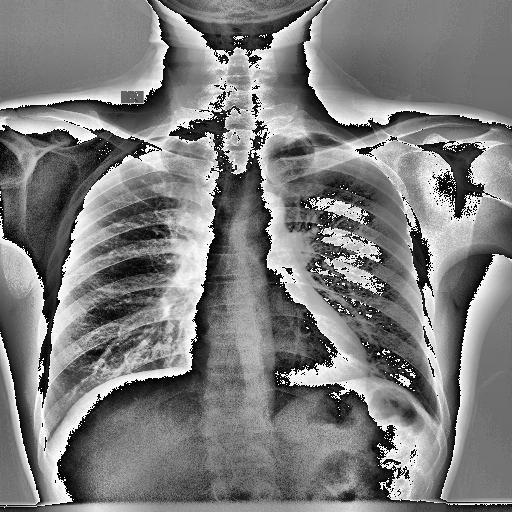11- Pleural thickening: (270, 131, 344, 144), (150, 130, 204, 144), (274, 130, 312, 144), (280, 132, 308, 144), (174, 134, 204, 144), (173, 134, 201, 144)
